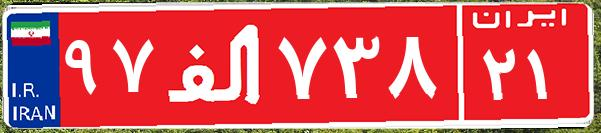1: (525, 38, 570, 115)
2: (475, 38, 525, 113)
3: (330, 28, 385, 110)
7: (273, 28, 330, 110), (110, 28, 158, 105)
8: (385, 28, 445, 110)
9: (57, 26, 110, 107)
الف: (158, 15, 273, 115)
